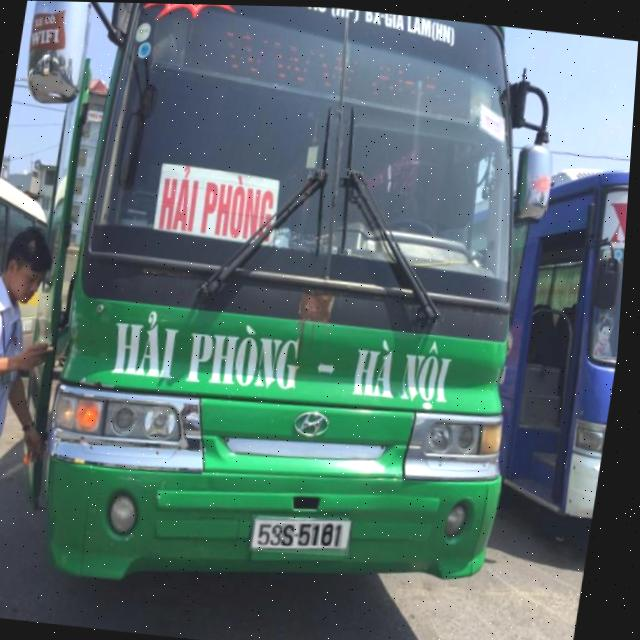car: (0, 0, 582, 620), (470, 140, 631, 562)
plate: (147, 162, 282, 252), (243, 505, 361, 567)
